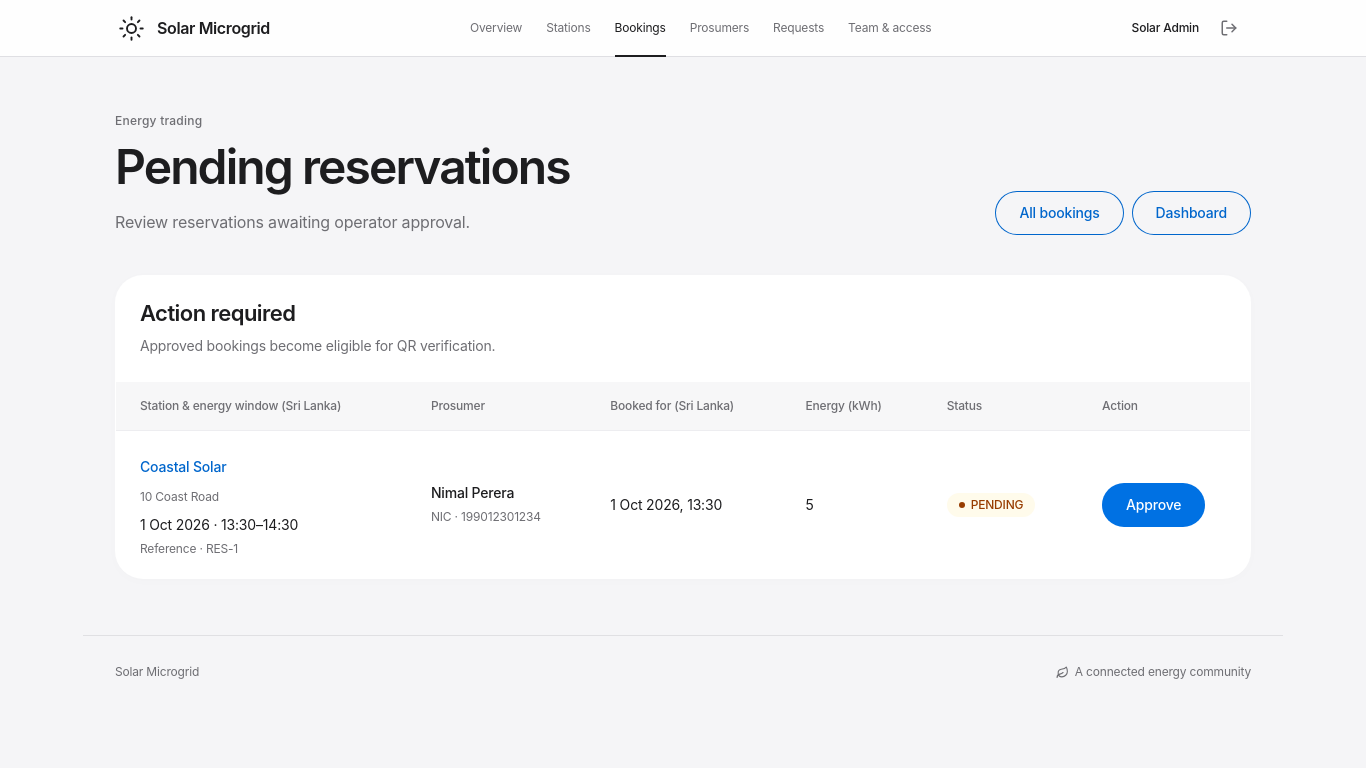
Test: React portal workflows › posts booking approvals to the existing controller and refreshes pending rows
Expected: the text "Nimal Perera" is shown, [431, 484, 514, 501]
Expected: the text "10 Coast Road" is shown, [140, 489, 219, 504]
Click the button "Approve" at [1154, 505], box [1102, 483, 1205, 527]
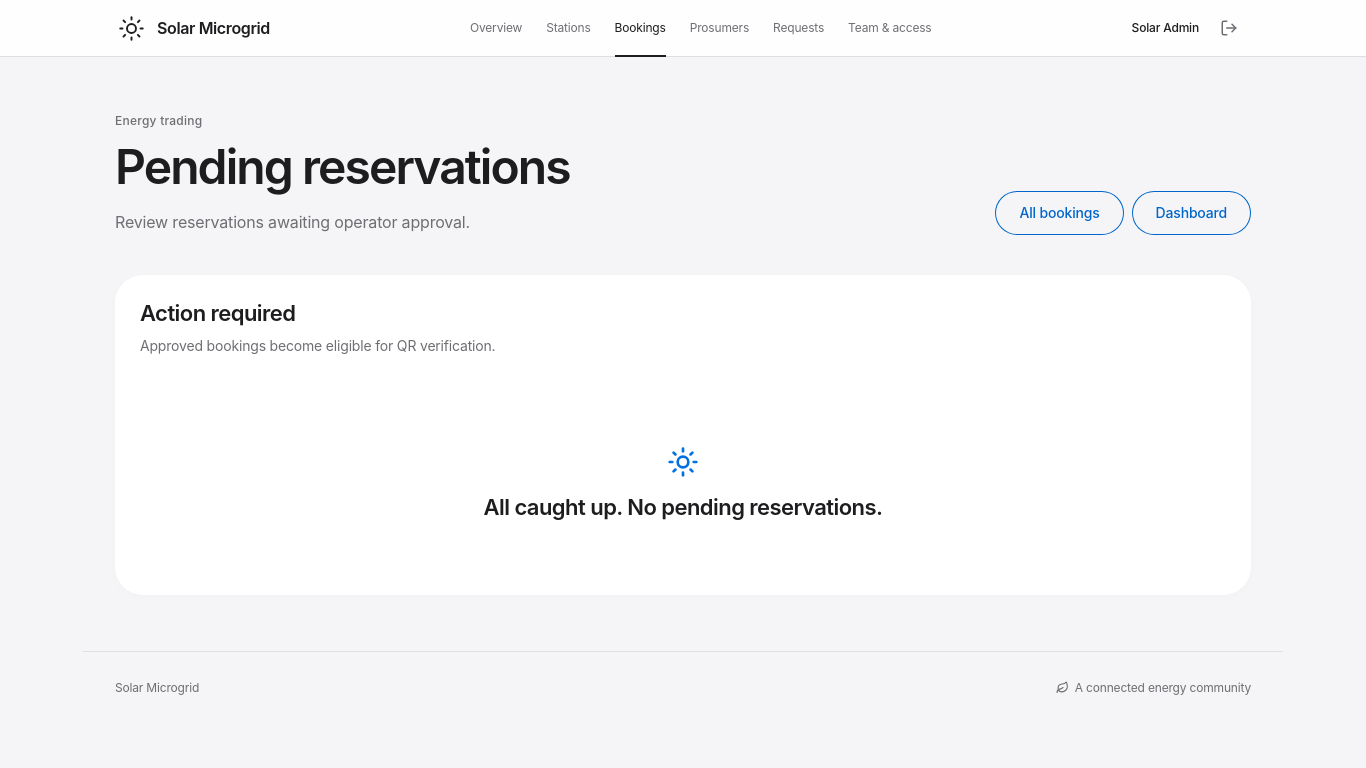
Now the heading "All caught up. No pending reservations." is shown, box [484, 494, 882, 520]
